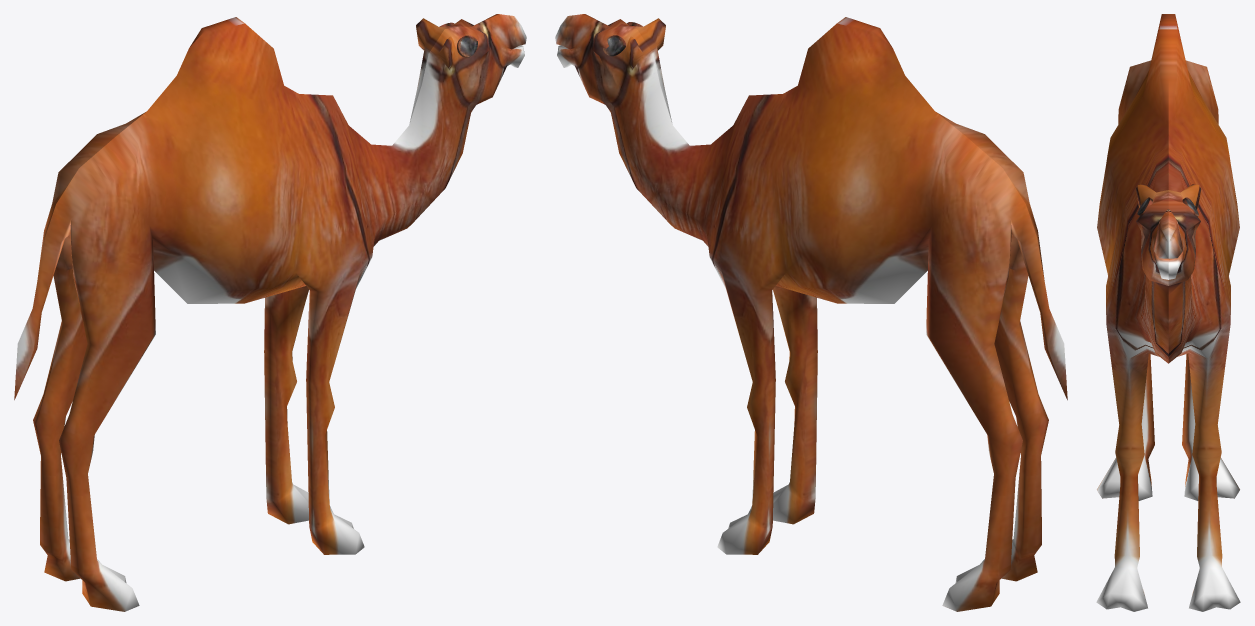
3 views of the same model, side by side, from view 1: azimuth 30°, elevation 25°; view 2: azimuth 150°, elevation 25°; view 3: azimuth 270°, elevation 25° (orthographic).
Parts seen in each view (by area): view 1: SketchUp; view 2: SketchUp; view 3: SketchUp.
Boxes of the visible parts, x1,y1,x2,y2 form: SketchUp: (14,14,526,611); SketchUp: (555,14,1067,611); SketchUp: (1096,14,1240,611).
Size of the model in its own units: 14.37 by 3.47 by 14.17.
Materials: 2 (2 with a texture image).
